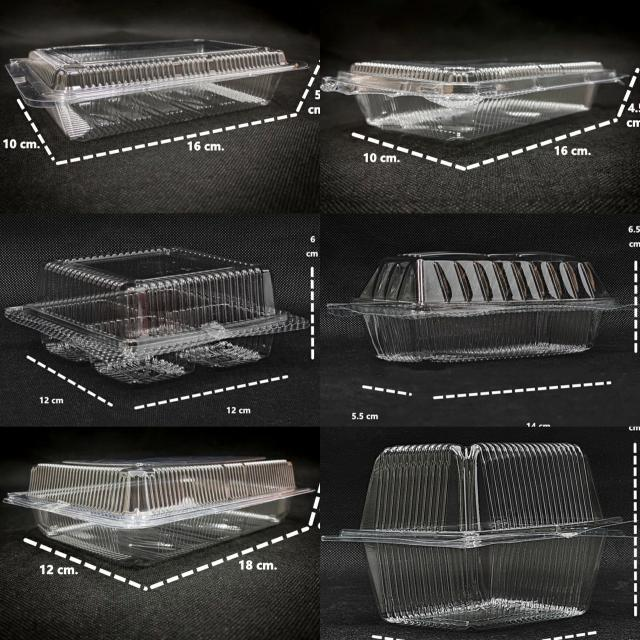Single-Use-Plastic: (323, 442, 624, 628), (5, 248, 308, 384), (5, 458, 313, 566), (329, 252, 623, 361), (6, 39, 308, 141), (322, 61, 624, 141)
